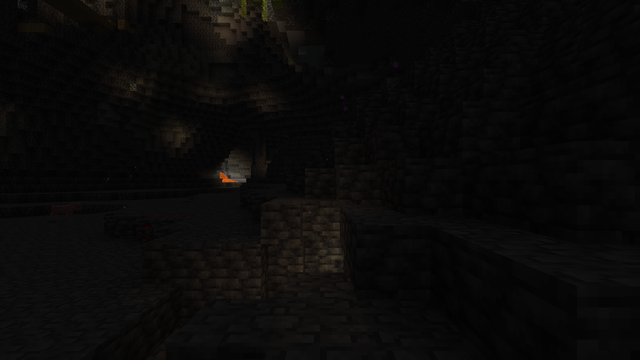cochons: (49, 204, 75, 218)
